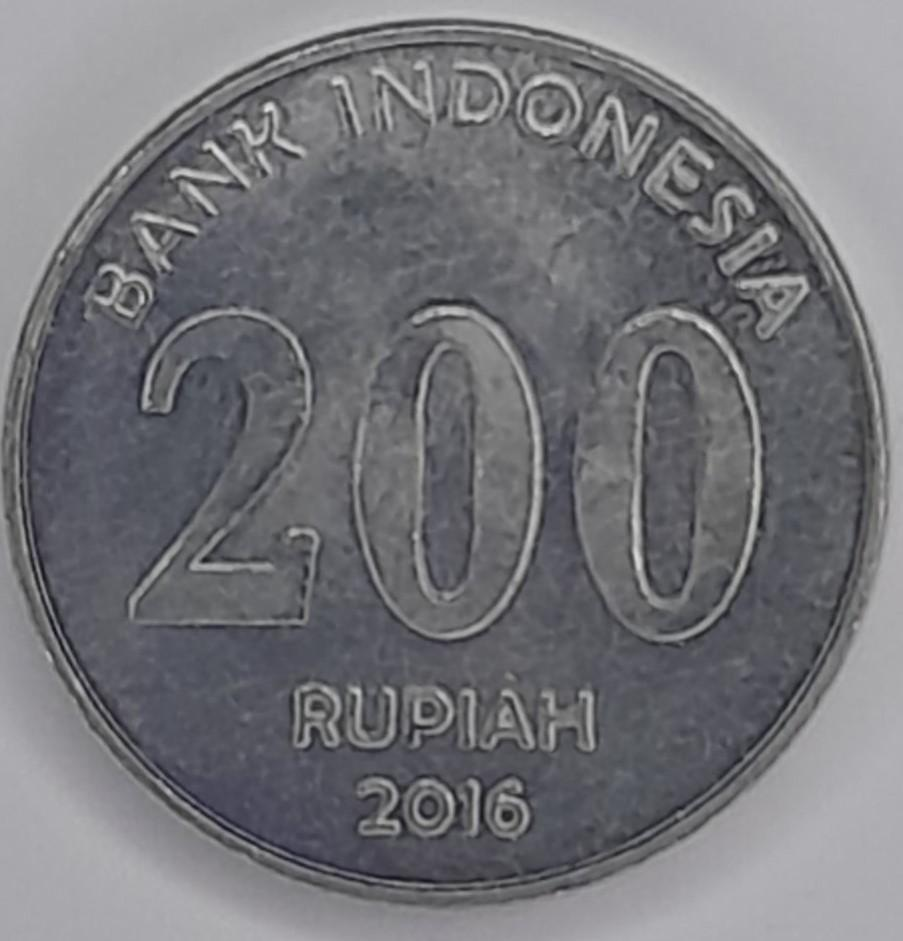coin_200_e2016: (0, 16, 903, 941)
